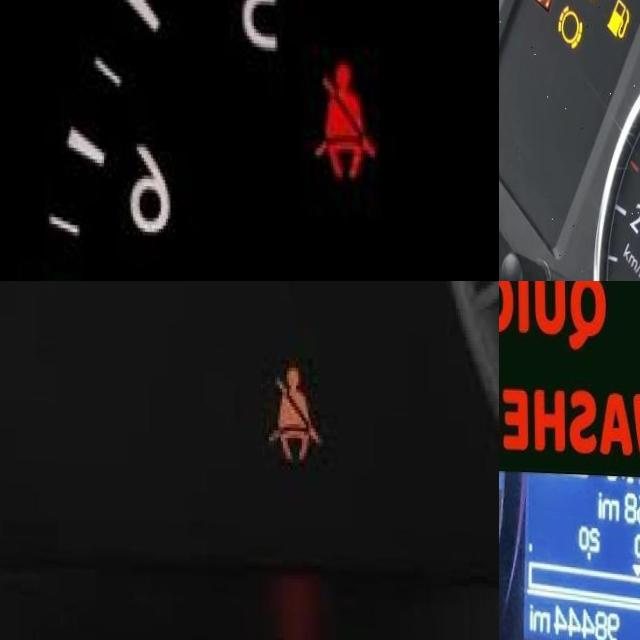Seat Belt: (313, 57, 375, 179), (272, 363, 318, 459)
